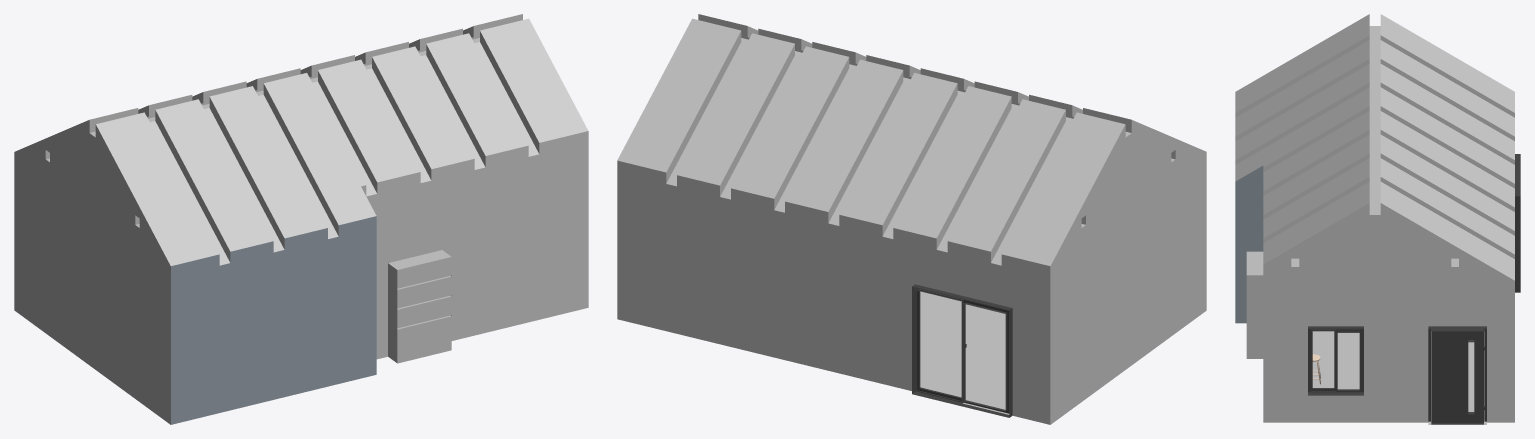
Rendered from cc0_hut.gltf.
3 views of the same model, side by side, from view 1: azimuth 30°, elevation 25°; view 2: azimuth 150°, elevation 25°; view 3: azimuth 270°, elevation 25° (orthographic). The views are drawn at different scales.
Visible parts, largest first — view 1: Hut; view 2: Hut, Window01_Base; view 3: Hut, Door_Base, Window02_Base, Window01_Base.
Boxes of the visible parts, left/top/right/bottom form: Hut: left=14, top=14, right=588, bottom=424; Hut: left=617, top=14, right=1206, bottom=424; Window01_Base: left=912, top=284, right=1012, bottom=417; Hut: left=1235, top=14, right=1514, bottom=424; Door_Base: left=1428, top=326, right=1486, bottom=424; Window02_Base: left=1308, top=326, right=1363, bottom=395; Window01_Base: left=1515, top=154, right=1520, bottom=292.
Size of what is drawn, in the model's own units: 8.12 by 4.34 by 5.1.
